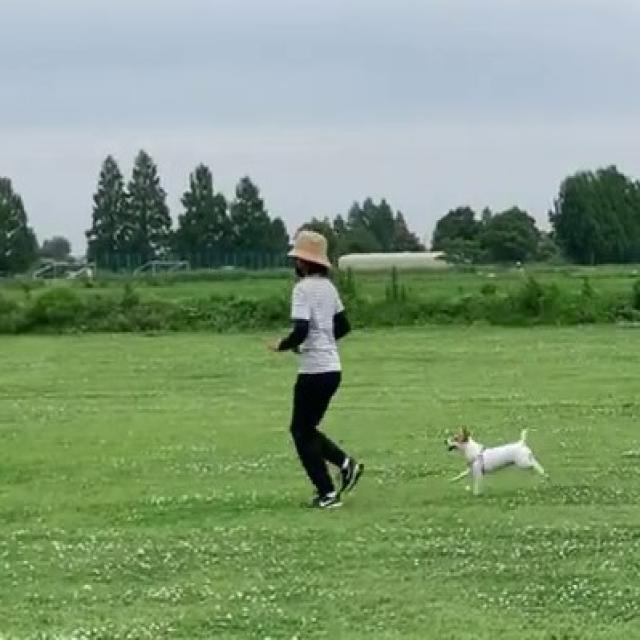Unleashed_Dog: (311, 378, 551, 494)
